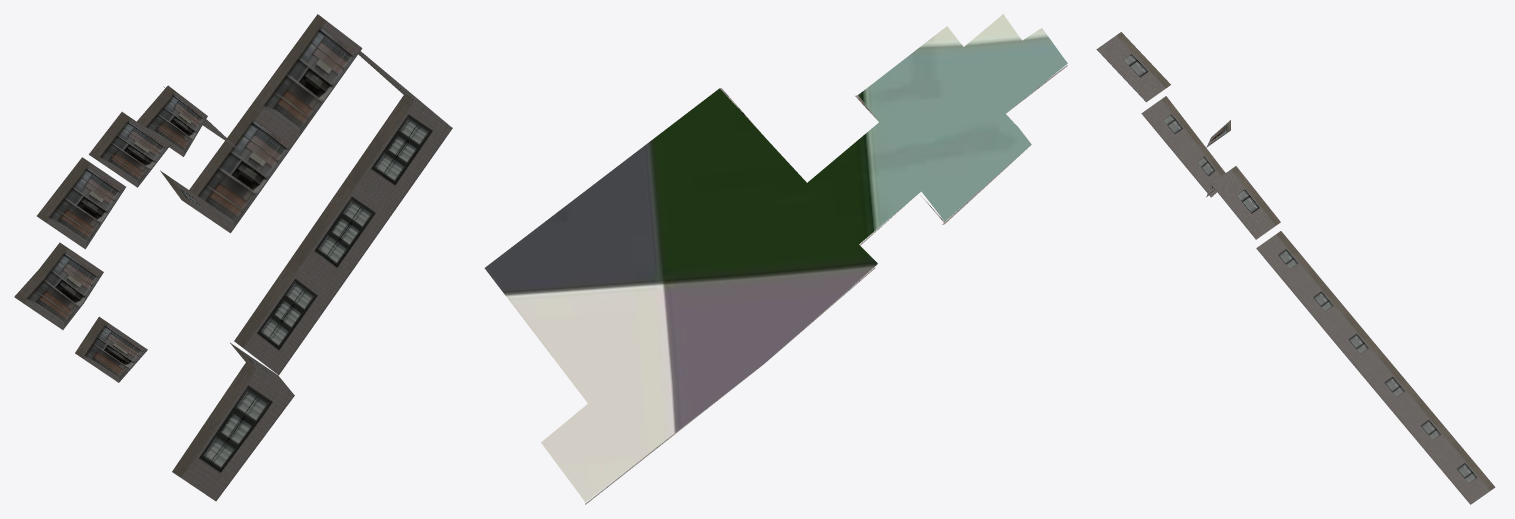
File: tile_LOD4_r4_c1.glb
3 views of the same model, side by side, from view 1: azimuth 30°, elevation 25°; view 2: azimuth 150°, elevation 25°; view 3: azimuth 270°, elevation 25° (orthographic). The views are drawn at different scales.
Size of the model in its own units: 43.75 by 42.25 by 40.5.
Materials: 4 (4 with a texture image).
